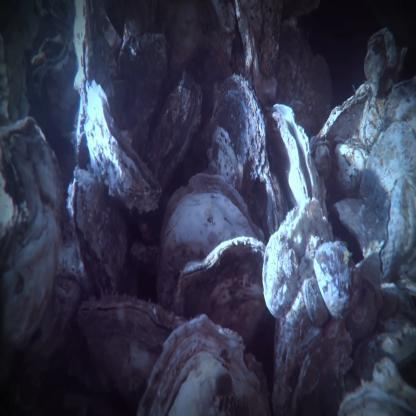Oyster- Indeterminate: (156, 173, 266, 308), (84, 83, 163, 215), (81, 297, 183, 395), (70, 166, 128, 292), (264, 101, 324, 210), (74, 0, 116, 148), (154, 71, 201, 184), (378, 175, 416, 280), (352, 329, 416, 379), (337, 388, 416, 416), (301, 326, 322, 356)
Oyster-Closed: (0, 118, 59, 353), (137, 319, 273, 416), (174, 236, 269, 345), (262, 199, 325, 318), (208, 76, 267, 200), (359, 121, 416, 221), (314, 240, 361, 318), (335, 198, 385, 256), (303, 276, 329, 326)
